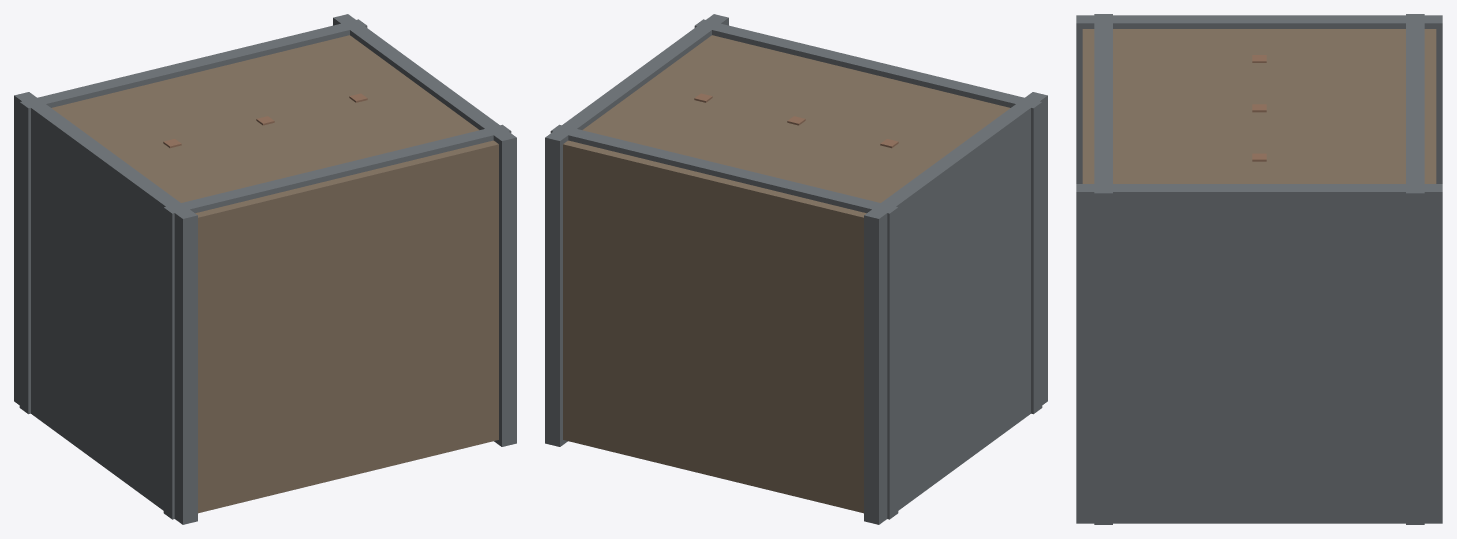
The model's file is prop-crate.glb.
3 renders of one model, left to right at view 1: azimuth 30°, elevation 25°; view 2: azimuth 150°, elevation 25°; view 3: azimuth 270°, elevation 25°, orthographic. The views are drawn at different scales.
Parts seen in each view (by area): view 1: world; view 2: world; view 3: world.
Boxes of the visible parts, box(x1,y1,x2,y2) form: world: box(14, 14, 516, 524); world: box(545, 14, 1047, 524); world: box(1076, 14, 1442, 524).
Size of the model in its own units: 1.02 by 0.88 by 0.88.
